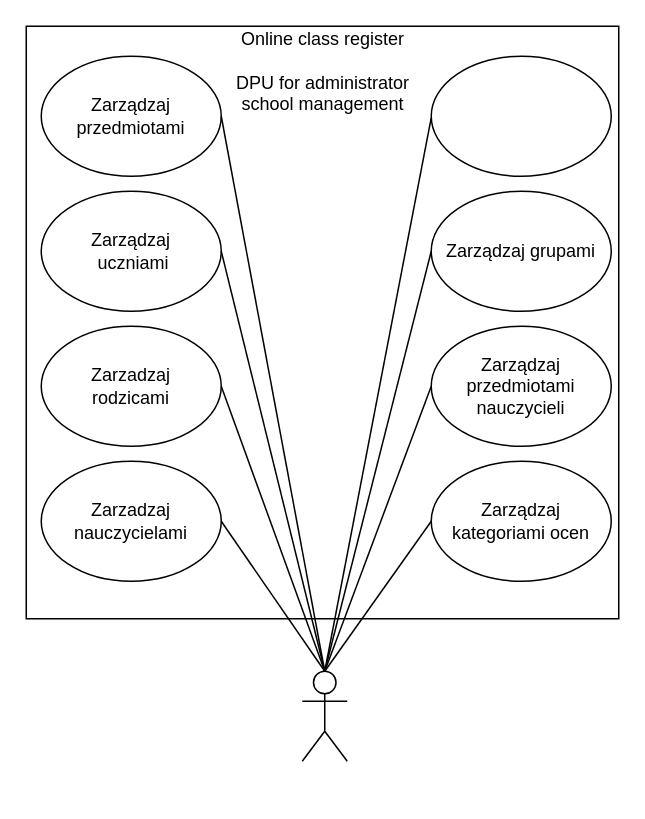
This 645x819 diagram has some shape labels left out. Each missing label, with the centre of its shape:
Administrator: [324,715]
Zarządzaj lekcjami: [520,115]
